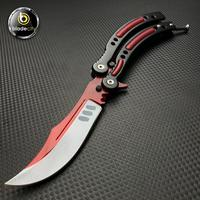knife: (2, 18, 175, 191)
